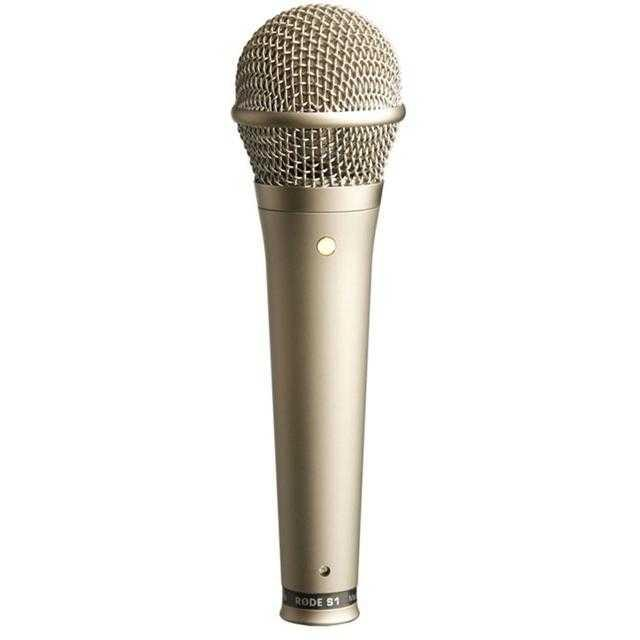microphone: (208, 12, 590, 622)
